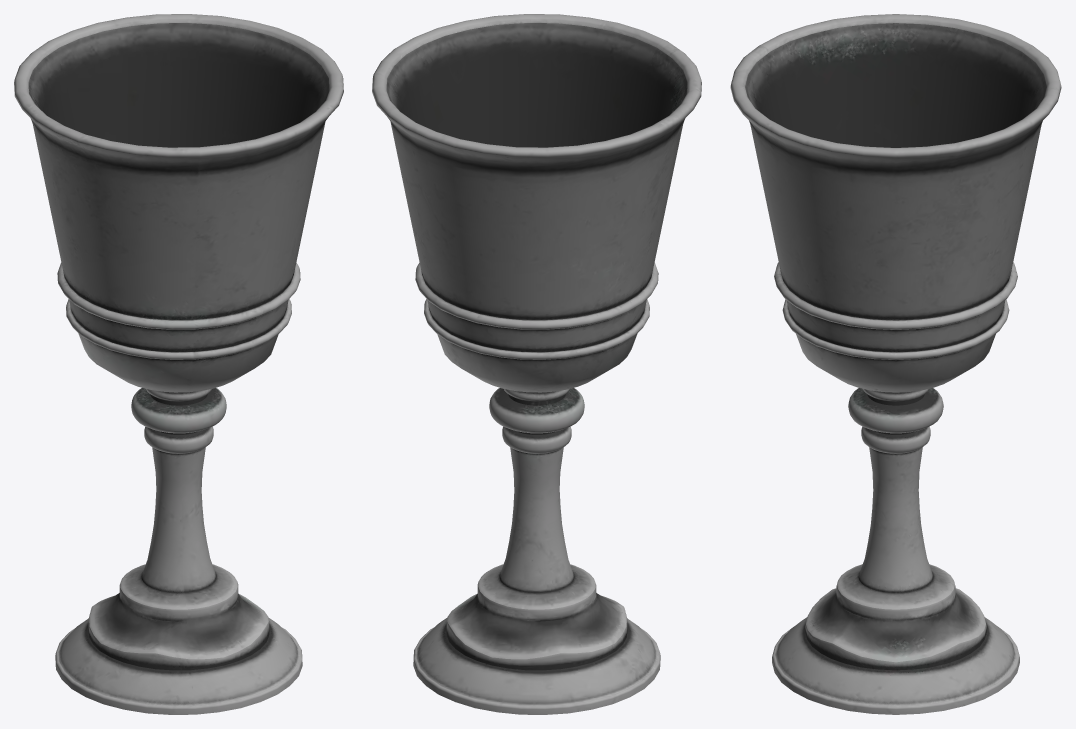
Rendered from goblet_gameready_lowpoly.glb.
The picture shows the model from 3 angles, left to right: view 1: azimuth 30°, elevation 25°; view 2: azimuth 150°, elevation 25°; view 3: azimuth 270°, elevation 25°; orthographic projection.
Parts seen in each view (by area): view 1: defaultMaterial; view 2: defaultMaterial; view 3: defaultMaterial.
Part boxes in pixels (x1,y1,x2,y2): defaultMaterial: [14, 14, 343, 714]; defaultMaterial: [372, 14, 701, 714]; defaultMaterial: [730, 14, 1061, 714].
Bounding box in the file's own units: 1.88 × 3.64 × 1.88.
1 material, 1 textured.
